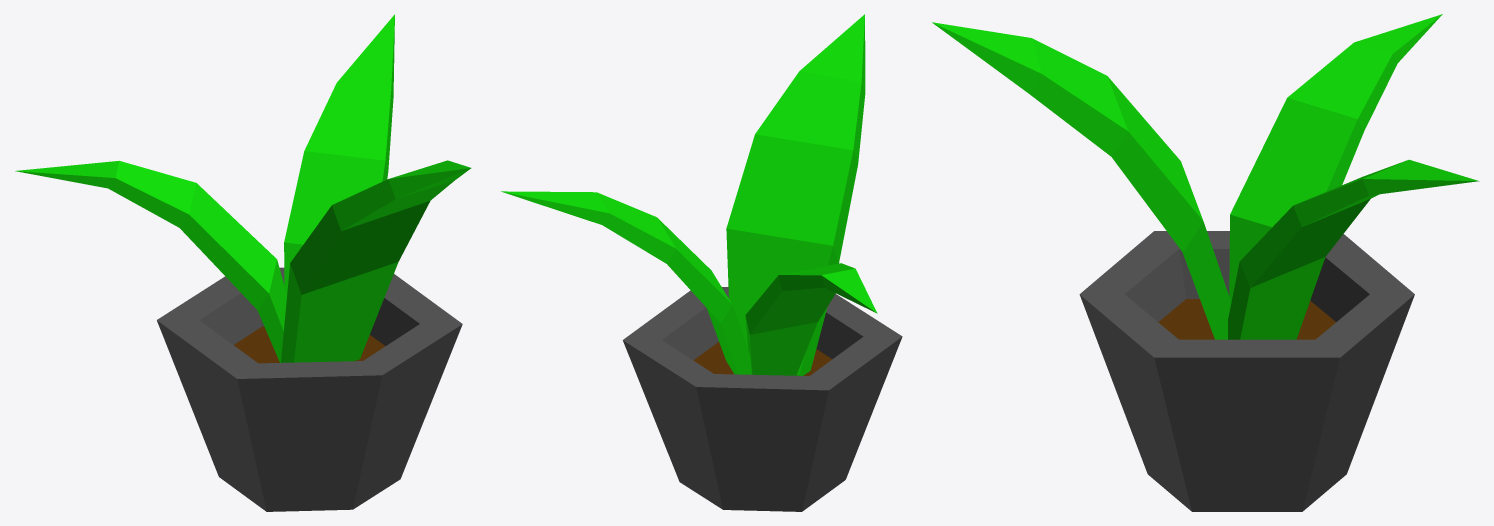
The model's file is MacetaConPlanta.fbx.
3 views of the same model, side by side, from view 1: azimuth 30°, elevation 25°; view 2: azimuth 150°, elevation 25°; view 3: azimuth 270°, elevation 25° (orthographic). The views are drawn at different scales.
Parts seen in each view (by area): view 1: Hoja.002; view 2: Hoja.002; view 3: Hoja.002.
Part boxes in pixels (<box>): Hoja.002: <box>15,14,471,511</box>; Hoja.002: <box>501,14,902,511</box>; Hoja.002: <box>932,14,1479,511</box>.
Size of the model in its own units: 1562 by 1522 by 1622.
